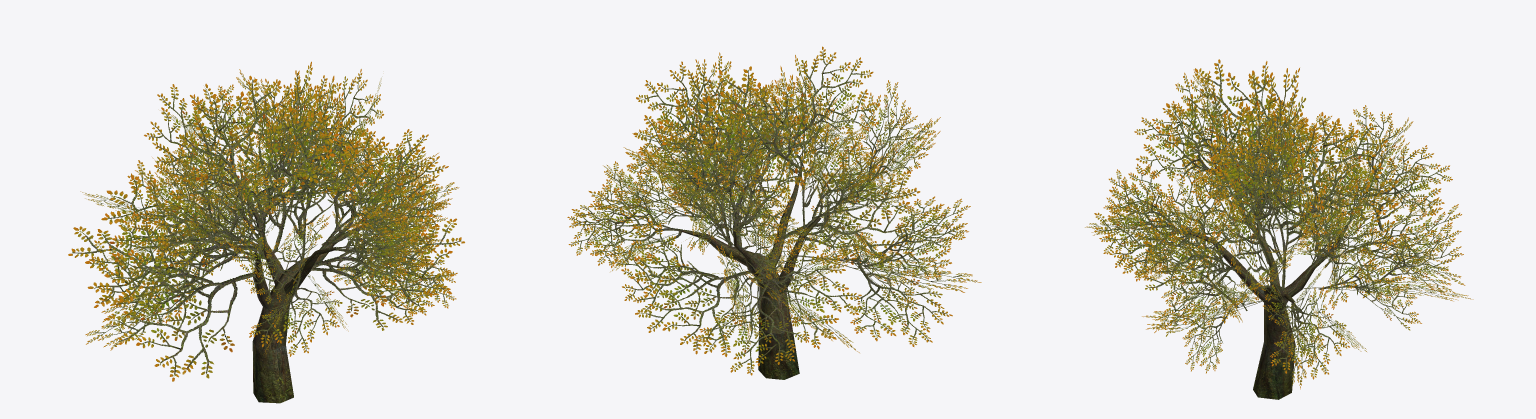
File: tre_tree09.glb
3 renders of one model, left to right at view 1: azimuth 30°, elevation 25°; view 2: azimuth 150°, elevation 25°; view 3: azimuth 270°, elevation 25°, orthographic. The views are drawn at different scales.
Visible parts, largest first — view 1: tre_tree09; view 2: tre_tree09; view 3: tre_tree09.
Part boxes in pixels (left/top/right/bottom): tre_tree09: left=68, top=61, right=464, bottom=403; tre_tree09: left=567, top=46, right=981, bottom=379; tre_tree09: left=1085, top=59, right=1473, bottom=399.
Size of the model in its own units: 72.02 by 56.82 by 65.03.
Materials: 3 (3 with a texture image).
